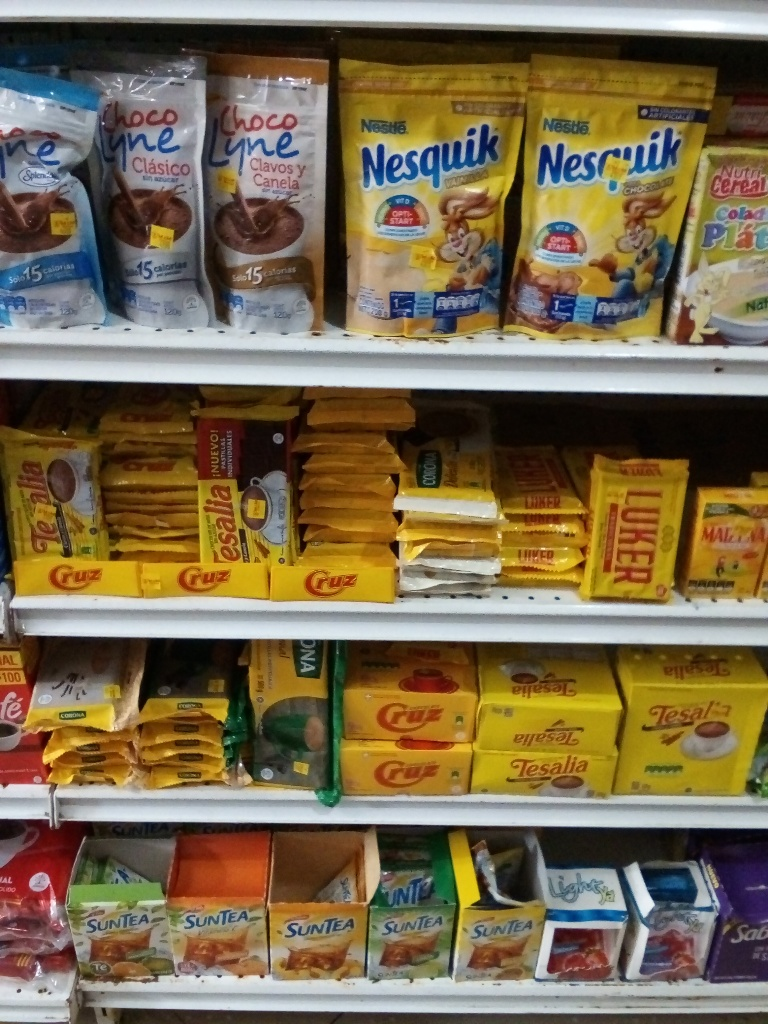COL0170303DYP20000: (506, 53, 718, 343)
COL0170306DYP20000: (336, 50, 529, 334)
